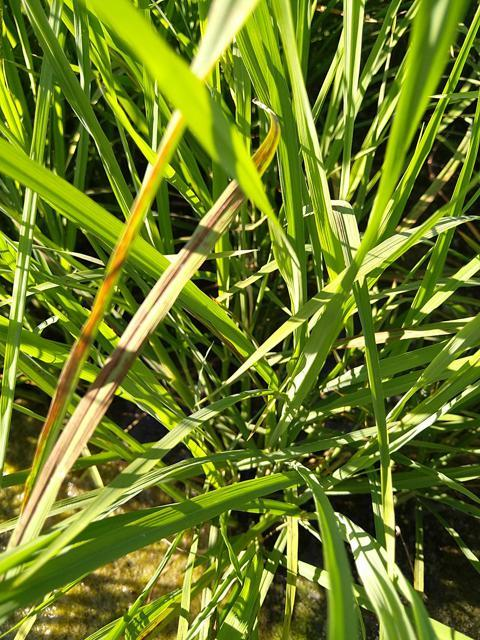Leaf Streak: (6, 181, 245, 556), (22, 110, 187, 511), (252, 119, 281, 177)
